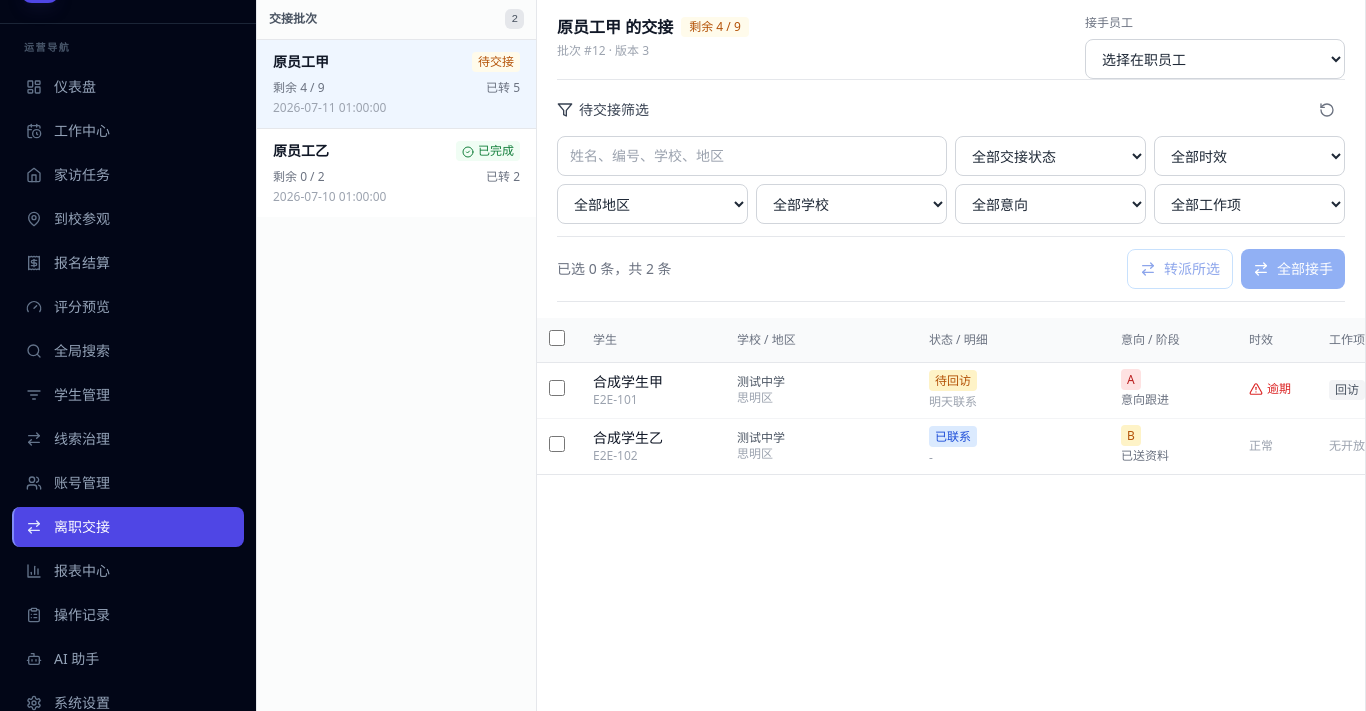
Test: HandoverCenter › keeps canonical filters in the URL and requests filtered detail
The image size is (1366, 711).
Step 1. Select "A" in the dropdown named "意向等级" → x=1050, y=204, box [955, 184, 1146, 224]
(page scrolled)
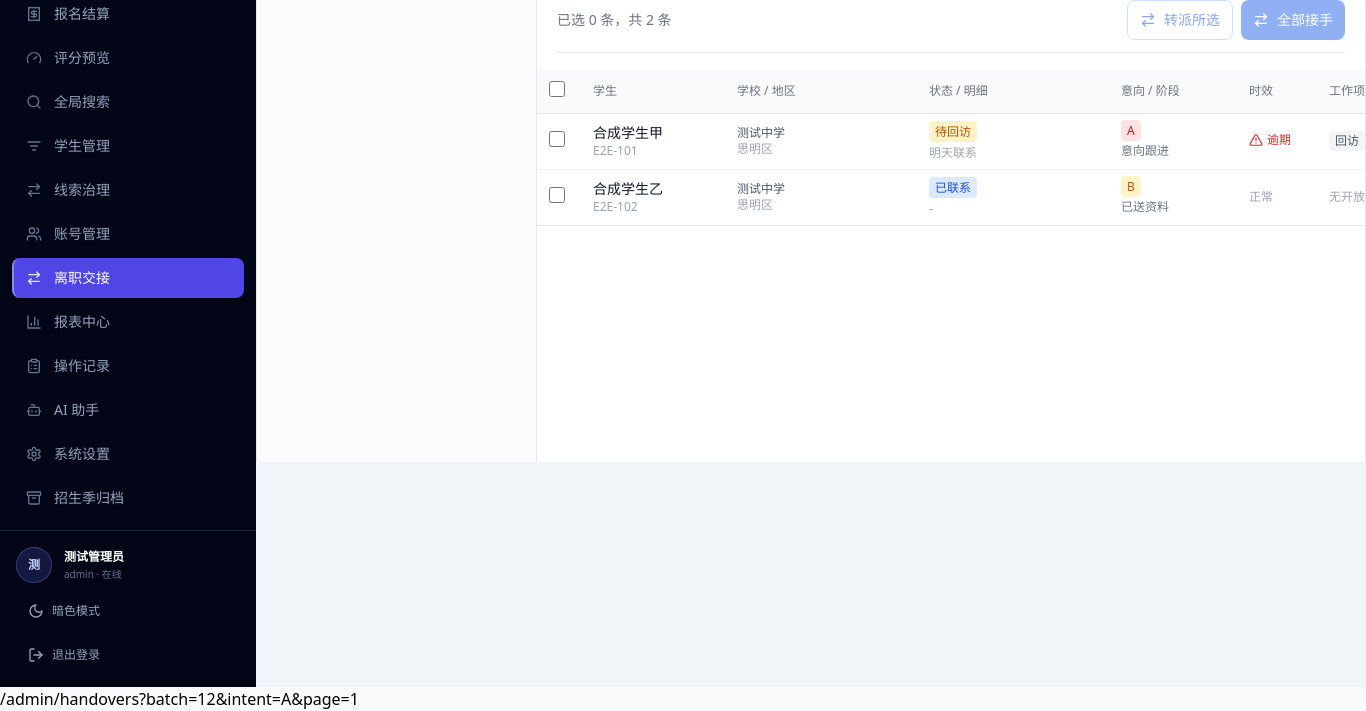
Check: the text with test id "location" shows "batch=12&intent=A&page=1", box [139, 688, 359, 710]
